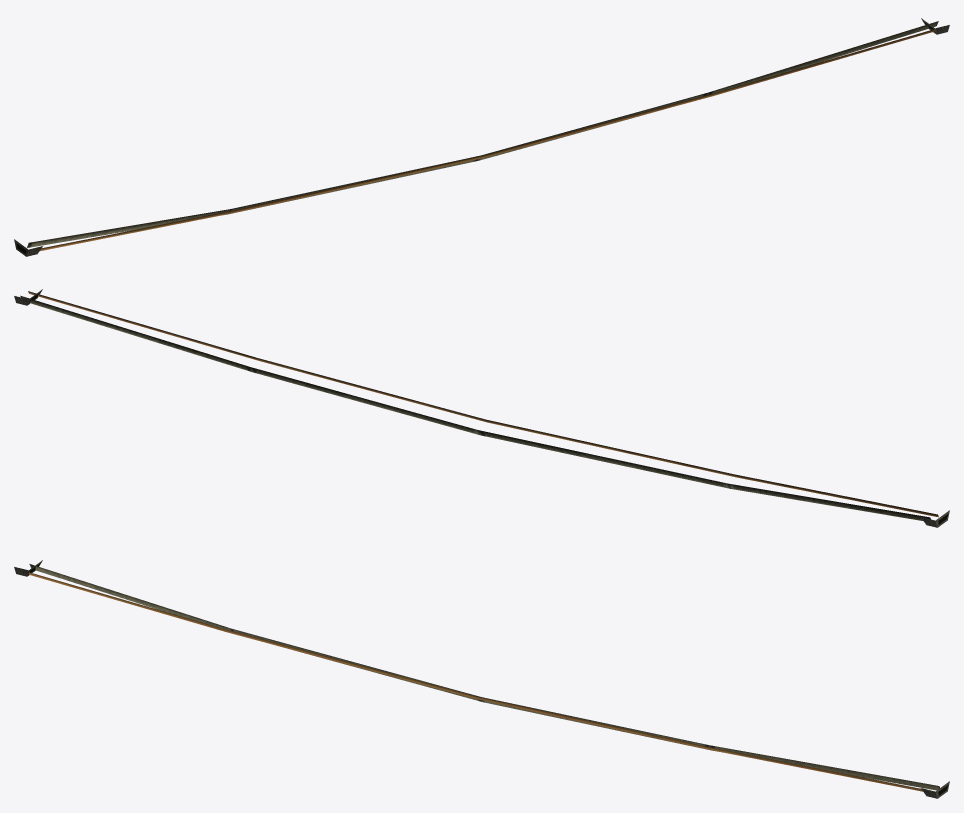
The model's file is M12_OverheadWire_12M.glb.
The picture shows the model from 3 angles, top to bottom: view 1: azimuth 30°, elevation 25°; view 2: azimuth 150°, elevation 25°; view 3: azimuth 330°, elevation 25°; orthographic projection.
Visible parts, largest first — view 1: M12_OVERHEADWIRE_12M; view 2: M12_OVERHEADWIRE_12M; view 3: M12_OVERHEADWIRE_12M.
Boxes of the visible parts, box(x1,y1,x2,y2) form: M12_OVERHEADWIRE_12M: box(14, 18, 949, 256); M12_OVERHEADWIRE_12M: box(14, 289, 949, 527); M12_OVERHEADWIRE_12M: box(14, 560, 949, 798).
Size of the model in its own units: 12 by 0.38 by 0.328.
1 material, 1 textured.
